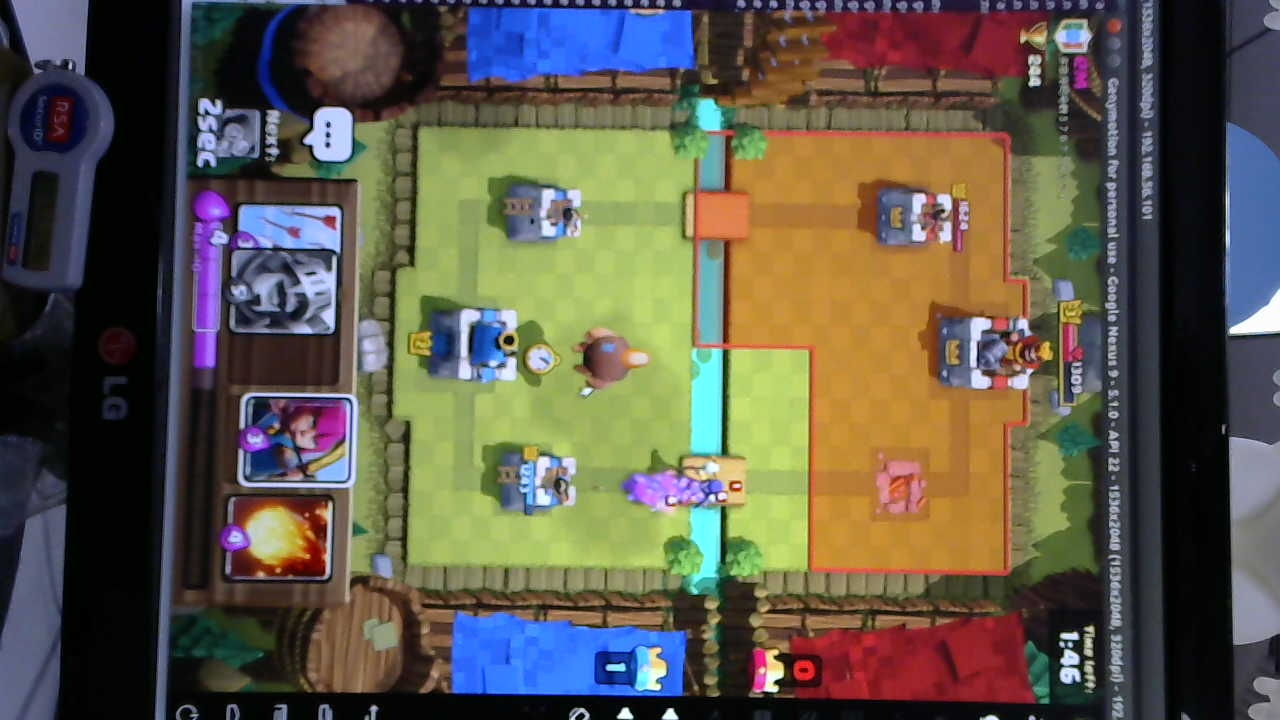giant: (519, 325, 644, 387)
